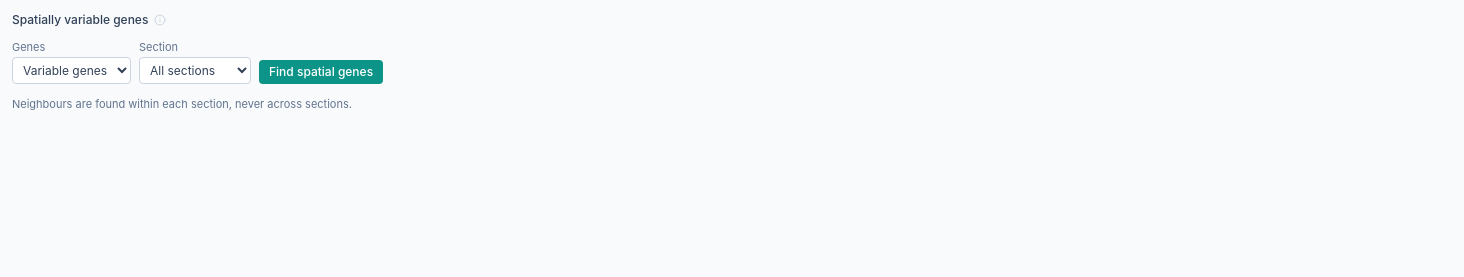
Test: SpatialGenesSubtab › runs on the chosen genes and section and lists the genes by Moran's I
The width and height of the screenshot is (1464, 277).
Select "All genes" in the dropdown labelled "Genes". click: (72, 70)
box: top-left (12, 57), bottom-right (131, 84)
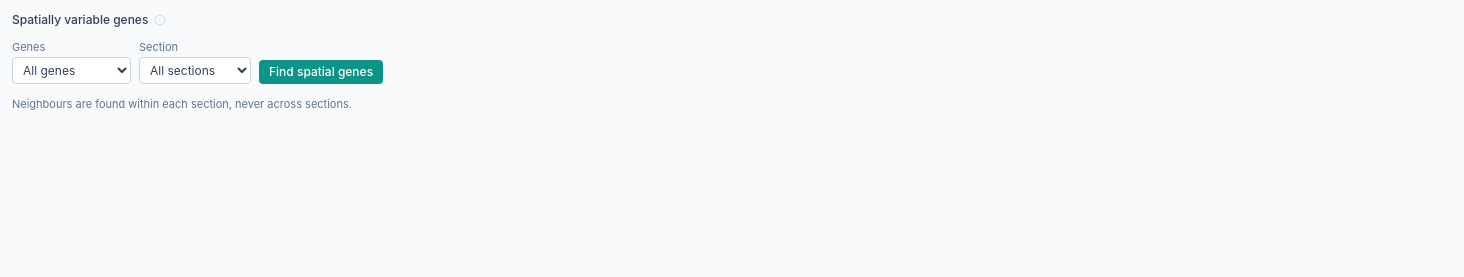
Select "B (400 spots)" in the dropdown labelled "Section". click: (195, 70)
box: top-left (139, 57), bottom-right (251, 84)
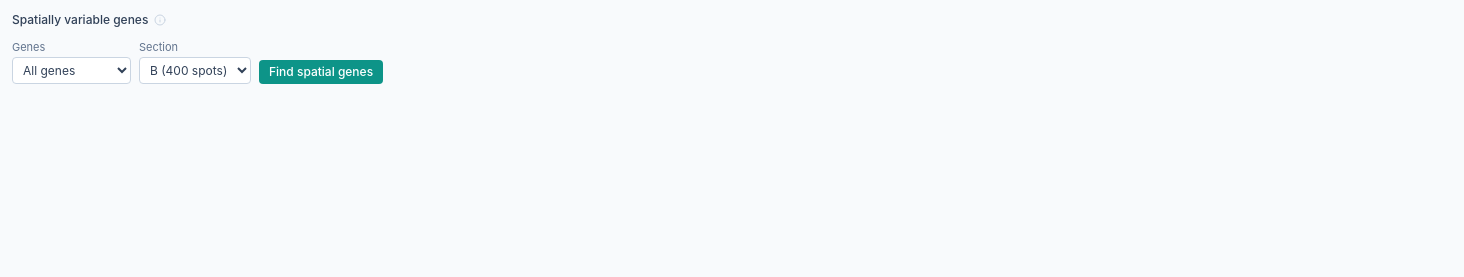
Click the button "Find spatial genes". click: (321, 72)
box: top-left (259, 60), bottom-right (383, 84)
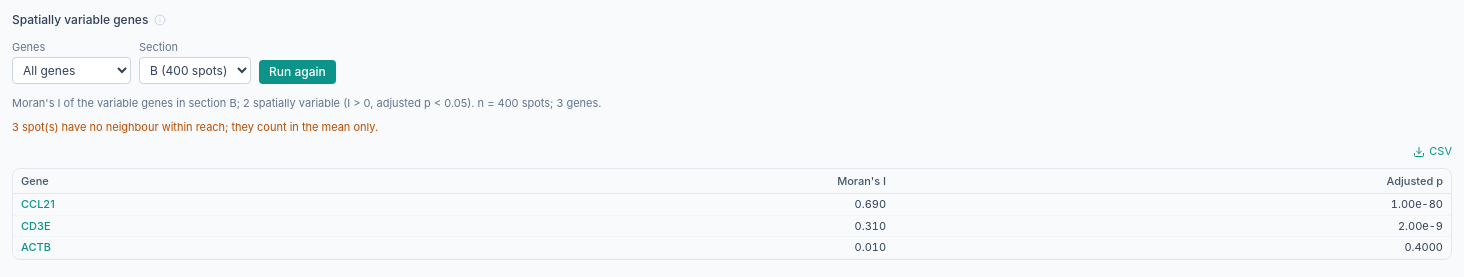
Check: the button "CCL21" is shown, box top-left (21, 196), bottom-right (55, 213)
Check: the text "in section B" is shown, box top-left (173, 96), bottom-right (237, 110)
Check: the text "n = 400 spots; 3 genes." is shown, box top-left (478, 96), bottom-right (601, 110)
